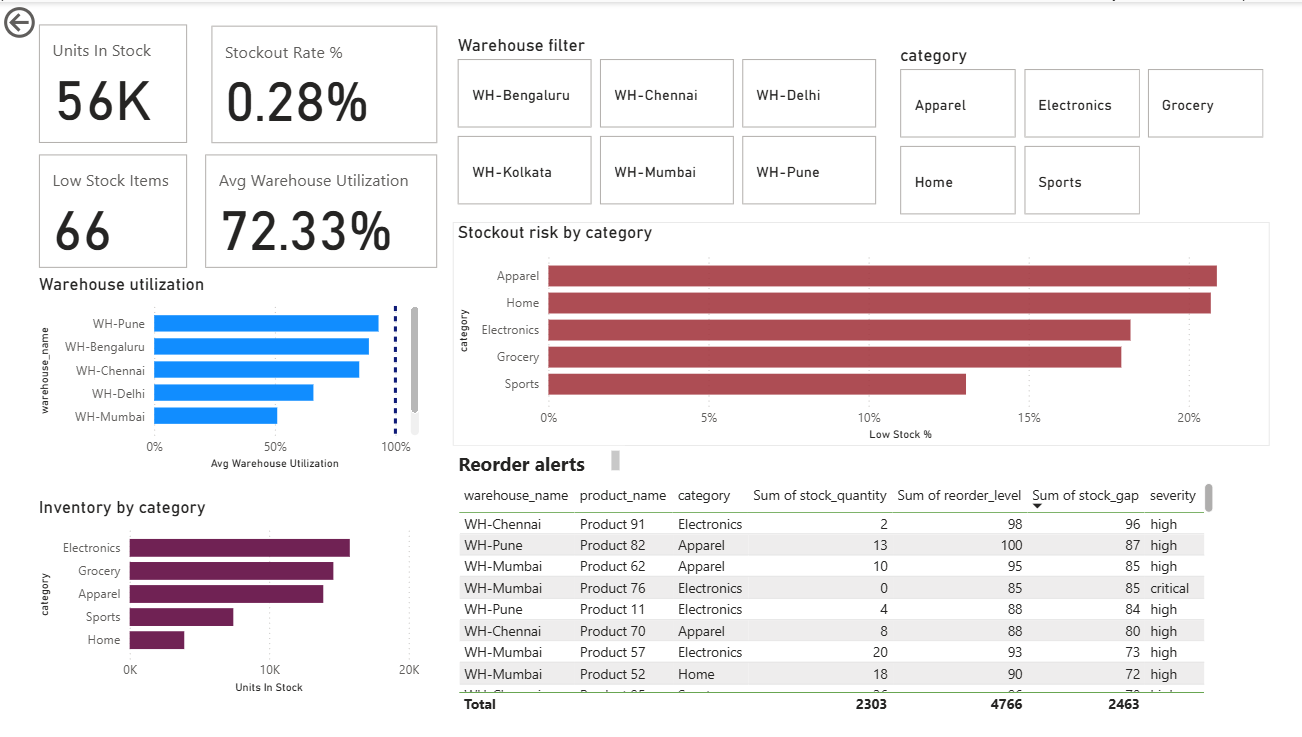

This screenshot's page, from the dashboard's own definition file:
{"tool":"powerbi","page":{"name":"Inventory & Warehouse","canvas":[1280,720],"ordinal":1},"visuals":[{"type":"cardVisual","fields":{"Data":["_Measures.Units In Stock"]},"box":[34.8,17.4,155.3,126.3],"z":0},{"type":"cardVisual","fields":{"Data":["_Measures.Avg Warehouse Utilization"]},"box":[196.9,144.3,237.2,121.1],"z":1000},{"type":"cardVisual","fields":{"Data":["_Measures.Stockout Rate %"]},"box":[203,18.3,231.1,126],"z":2000},{"type":"cardVisual","fields":{"Data":["_Measures.Low Stock Items"]},"box":[34.8,143.7,155.3,121.9],"z":3000},{"type":"clusteredBarChart","title":"Warehouse utilization","fields":{"Category":["dim_warehouse.warehouse_name"],"Y":["_Measures.Avg Warehouse Utilization"]},"box":[34.8,265.6,381.8,197.4],"z":4000},{"type":"clusteredBarChart","title":"Inventory by category","fields":{"Category":["dim_product.category"],"Y":["_Measures.Units In Stock"]},"box":[34.8,484.8,381.8,197.4],"z":5000},{"type":"clusteredBarChart","title":"Stockout risk by category","fields":{"Category":["dim_product.category"],"Y":["_Measures.Low Stock %"]},"box":[444.2,214.8,799.8,219.2],"z":6000},{"type":"tableEx","fields":{"Values":["alert_low_stock.warehouse_name","alert_low_stock.product_name","alert_low_stock.category","Sum(alert_low_stock.stock_quantity)","Sum(alert_low_stock.reorder_level)","Sum(alert_low_stock.stock_gap)","alert_low_stock.severity"]},"box":[444.2,466,749,235.2],"z":7000},{"type":"actionButton","box":[0,0,100,40],"z":8000},{"type":"textbox","box":[444.2,434,168.4,31.9],"z":9000},{"type":"advancedSlicerVisual","title":"Warehouse filter","fields":{"Values":["dim_warehouse.warehouse_name"]},"box":[444.2,31.9,419.5,172.7],"z":10000},{"type":"advancedSlicerVisual","fields":{"Values":["dim_product.category"]},"box":[876.8,42.1,367.3,172.7],"z":11000}]}

Visuals, with their boxes on the page's 1280x720 design canvas (x1, y1, x2, y2). These are canvas units, not pixel positions in the 1302x737 screenshot, which may show the page scaled, cropped or inside an application window:
cardVisual - _Measures.Units In Stock: <region>35, 17, 190, 144</region>
cardVisual - _Measures.Avg Warehouse Utilization: <region>197, 144, 434, 265</region>
cardVisual - _Measures.Stockout Rate %: <region>203, 18, 434, 144</region>
cardVisual - _Measures.Low Stock Items: <region>35, 144, 190, 266</region>
"Warehouse utilization" clusteredBarChart: <region>35, 266, 417, 463</region>
"Inventory by category" clusteredBarChart: <region>35, 485, 417, 682</region>
"Stockout risk by category" clusteredBarChart: <region>444, 215, 1244, 434</region>
tableEx - alert_low_stock.warehouse_name x alert_low_stock.product_name: <region>444, 466, 1193, 701</region>
actionButton: <region>0, 0, 100, 40</region>
textbox: <region>444, 434, 613, 466</region>
"Warehouse filter" advancedSlicerVisual: <region>444, 32, 864, 205</region>
advancedSlicerVisual - dim_product.category: <region>877, 42, 1244, 215</region>
